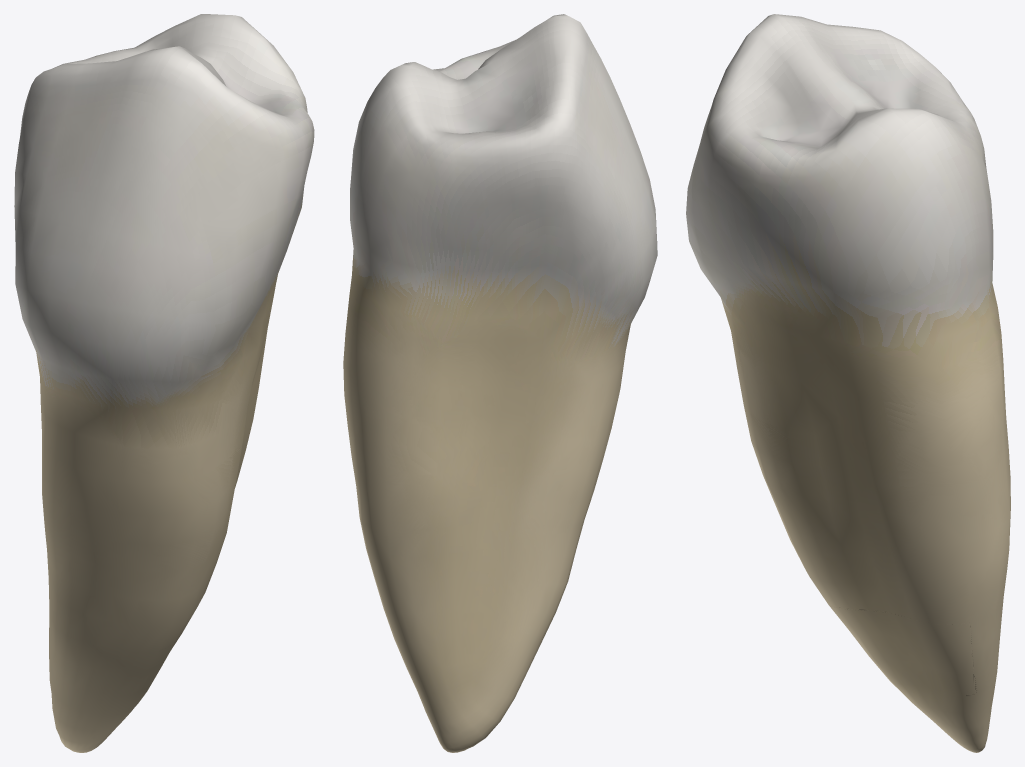
File: tooth-44.glb
The picture shows the model from 3 angles, left to right: view 1: azimuth 30°, elevation 25°; view 2: azimuth 150°, elevation 25°; view 3: azimuth 270°, elevation 25°; orthographic projection. The views are drawn at different scales.
Parts seen in each view (by area): view 1: ZBrushPolyMesh3D3_Mandible_ll4_0; view 2: ZBrushPolyMesh3D3_Mandible_ll4_0; view 3: ZBrushPolyMesh3D3_Mandible_ll4_0.
Part boxes in pixels (x1,y1,x2,y2): ZBrushPolyMesh3D3_Mandible_ll4_0: [14, 14, 314, 752]; ZBrushPolyMesh3D3_Mandible_ll4_0: [343, 14, 657, 752]; ZBrushPolyMesh3D3_Mandible_ll4_0: [686, 14, 1010, 752].
Size of the model in its own units: 0.2852 by 0.7277 by 0.2952.
Materials: 1 (1 with a texture image).
